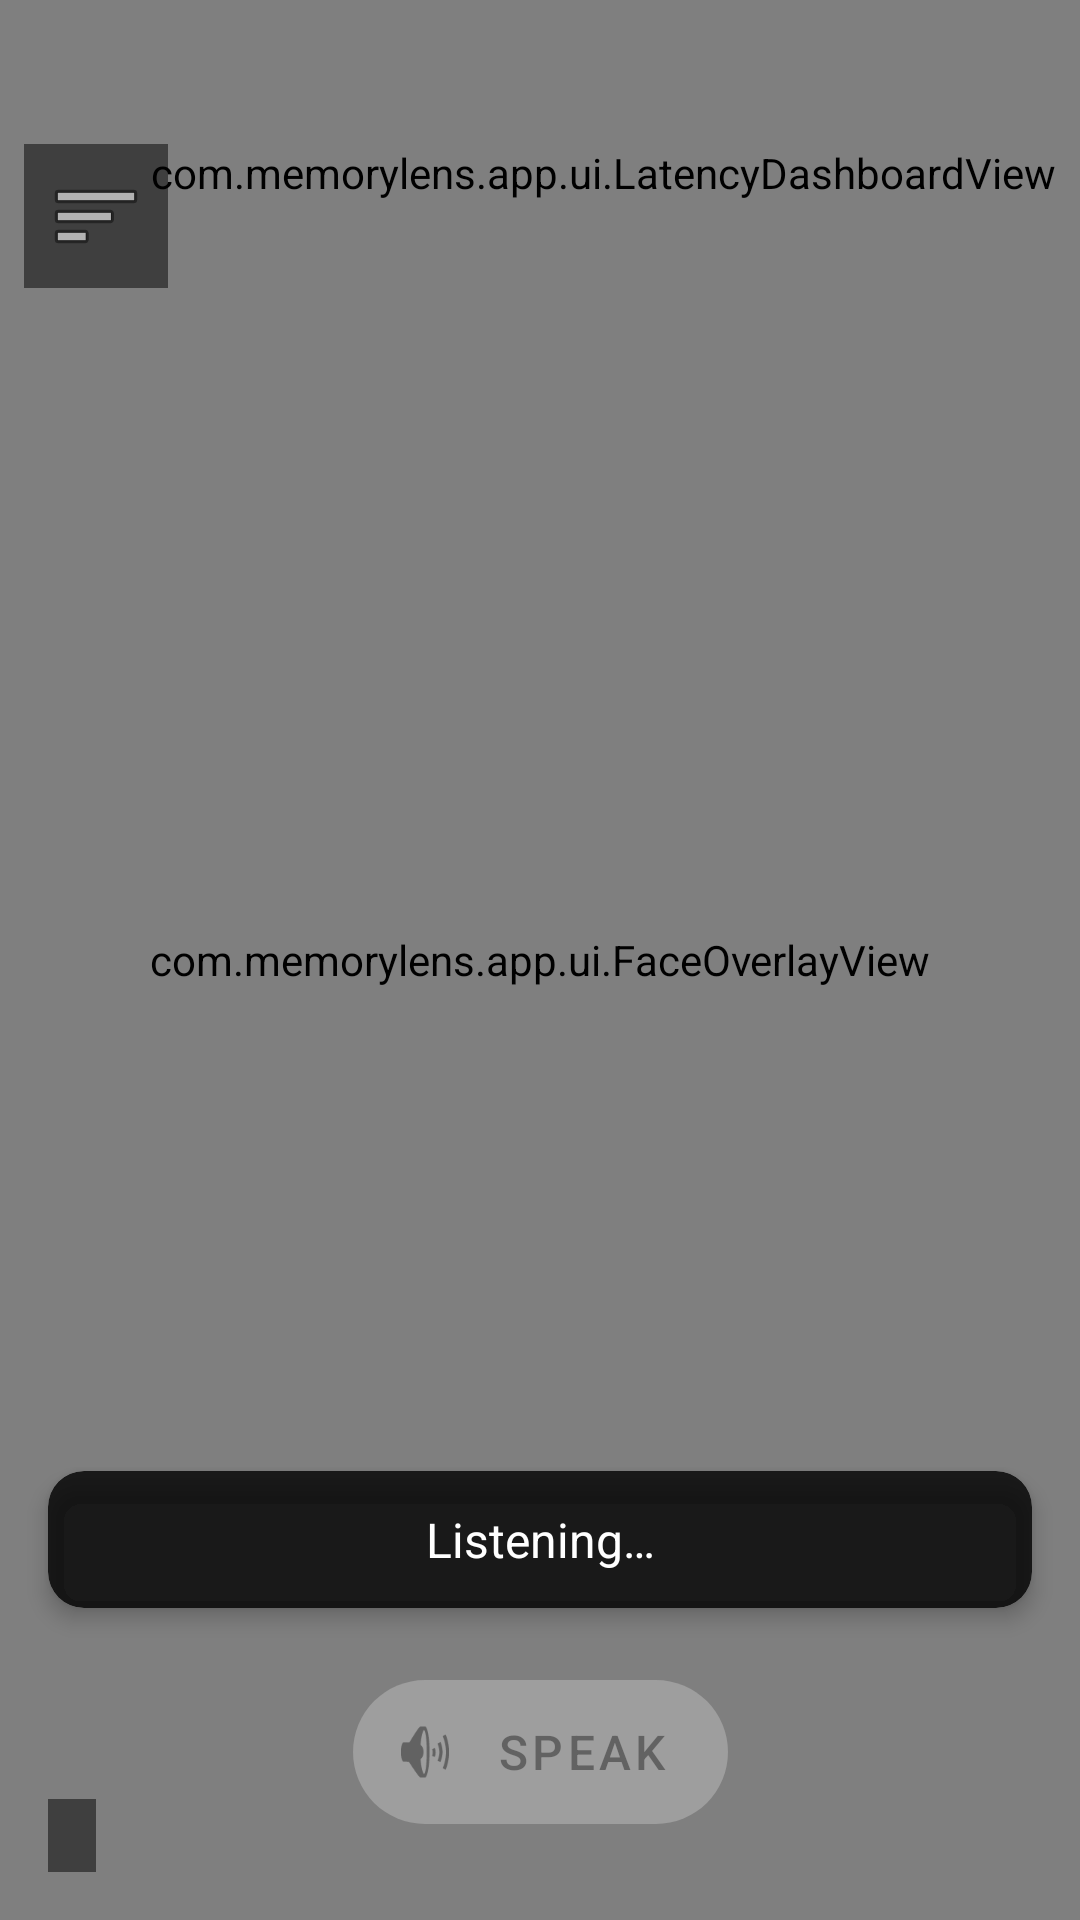

Screen size 1080×1920. Icon name, then its center in pixels as [x,y]:
Menu: [96,216]
